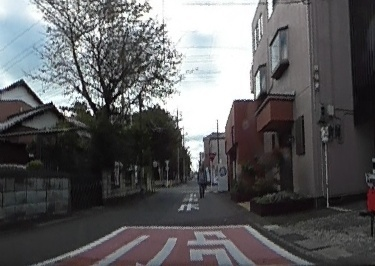person: (196, 161, 208, 196)
